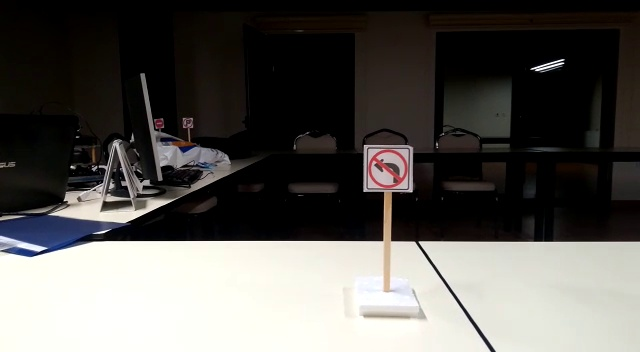sola_donulmez: (367, 147, 407, 187)
